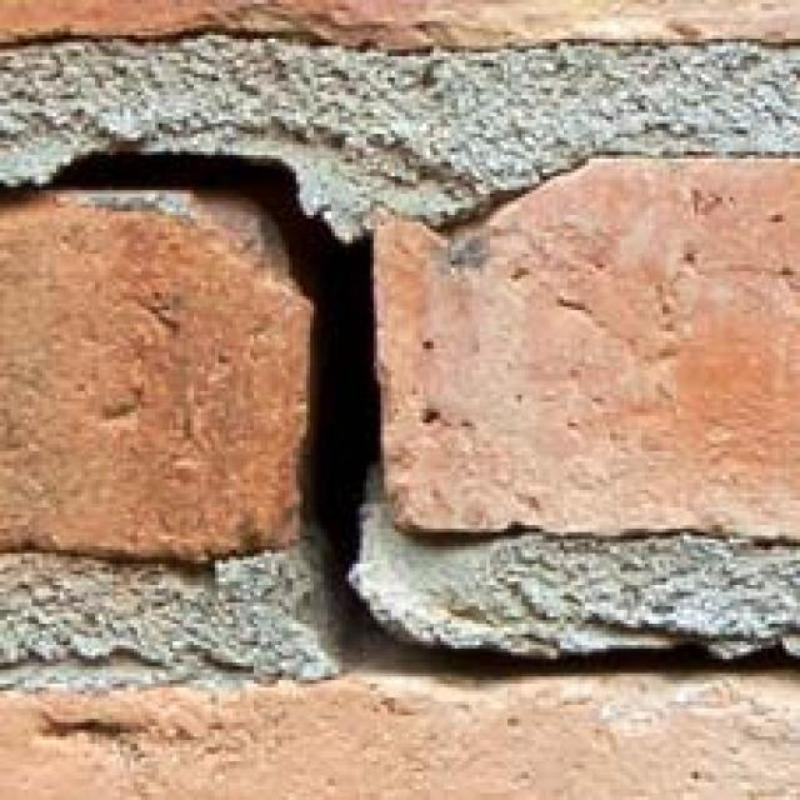pothole: (0, 155, 800, 676)
